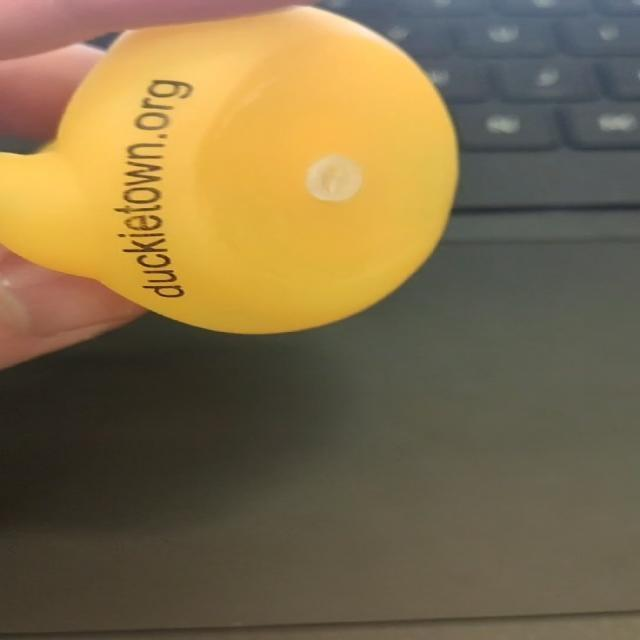rubber-duck: (0, 6, 456, 331)
